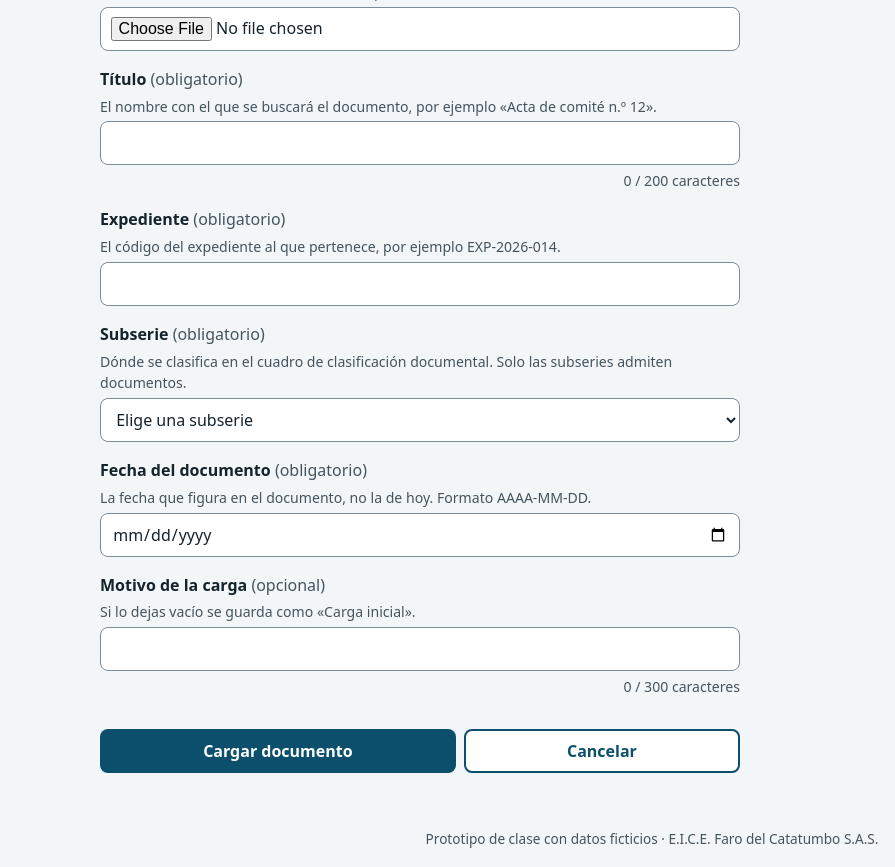
it: formulario de carga › enviar vacío: un error por campo, el foco al primero, y nada se envía
The image size is (895, 867).
(page scrolled)
Click the button "Cargar documento": [278, 751] box x1=100 y1=729 x2=456 y2=773
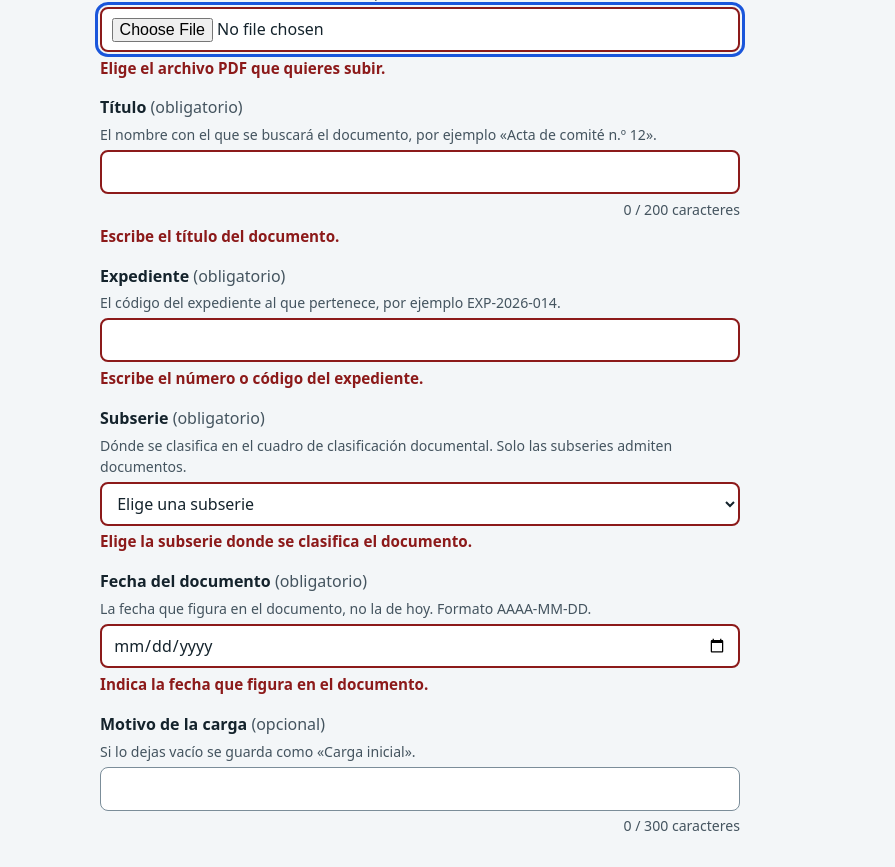
expect the text "Elige el archivo PDF que quieres subir." is shown: met, box x1=100 y1=58 x2=385 y2=78
expect the text "Escribe el título del documento." is shown: met, box x1=100 y1=226 x2=339 y2=246
expect the text "Escribe el número o código del expediente." is shown: met, box x1=100 y1=368 x2=423 y2=388
